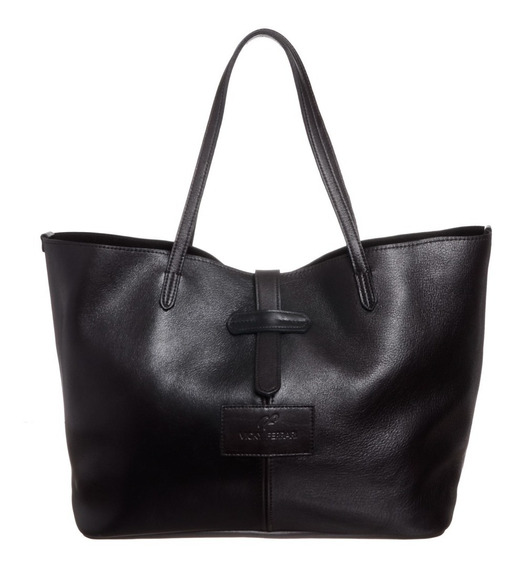cartera: (40, 28, 493, 541)
